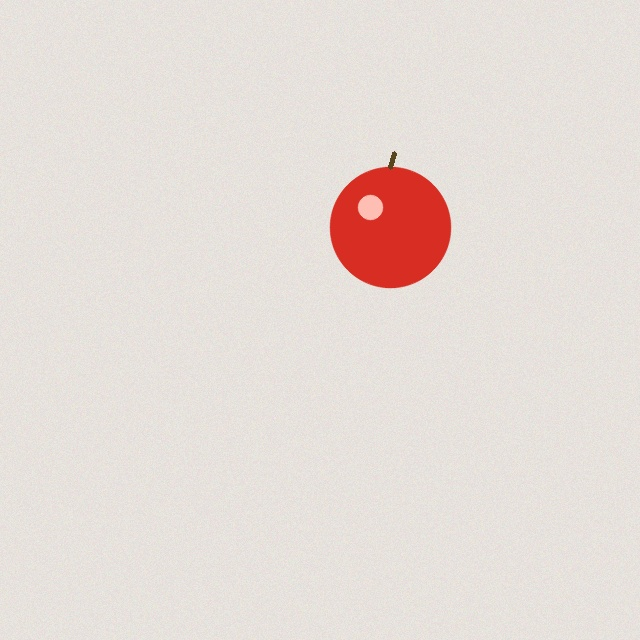Fresh apple: (330, 153, 450, 287)
